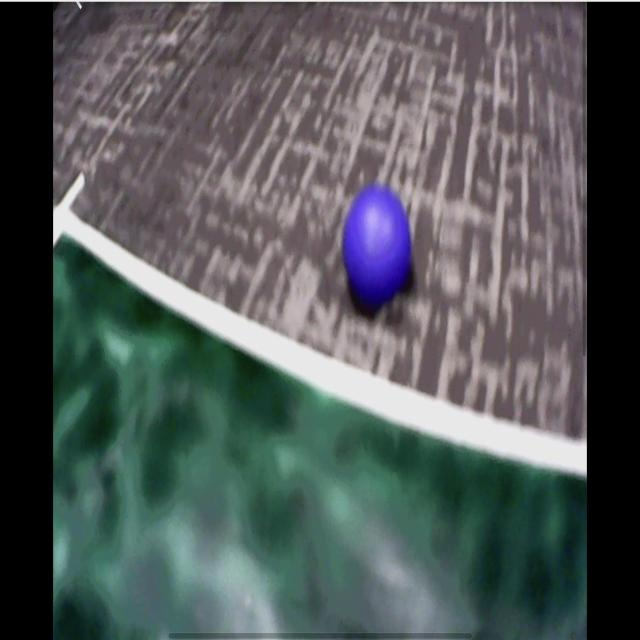ball: (342, 189, 413, 304)
